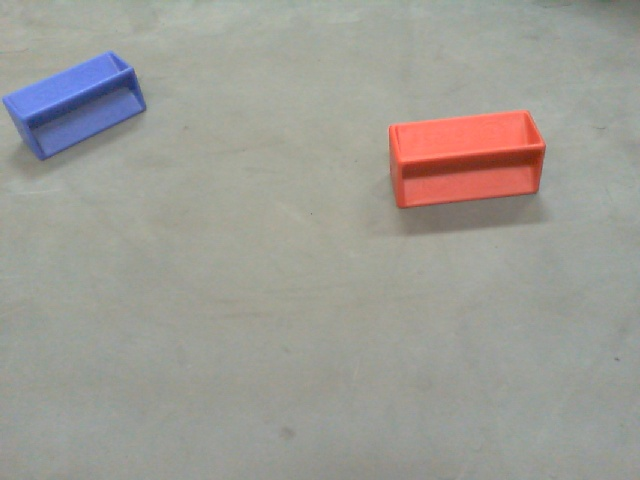BlueSample: (1, 49, 149, 159)
RedSample: (383, 104, 549, 210)
